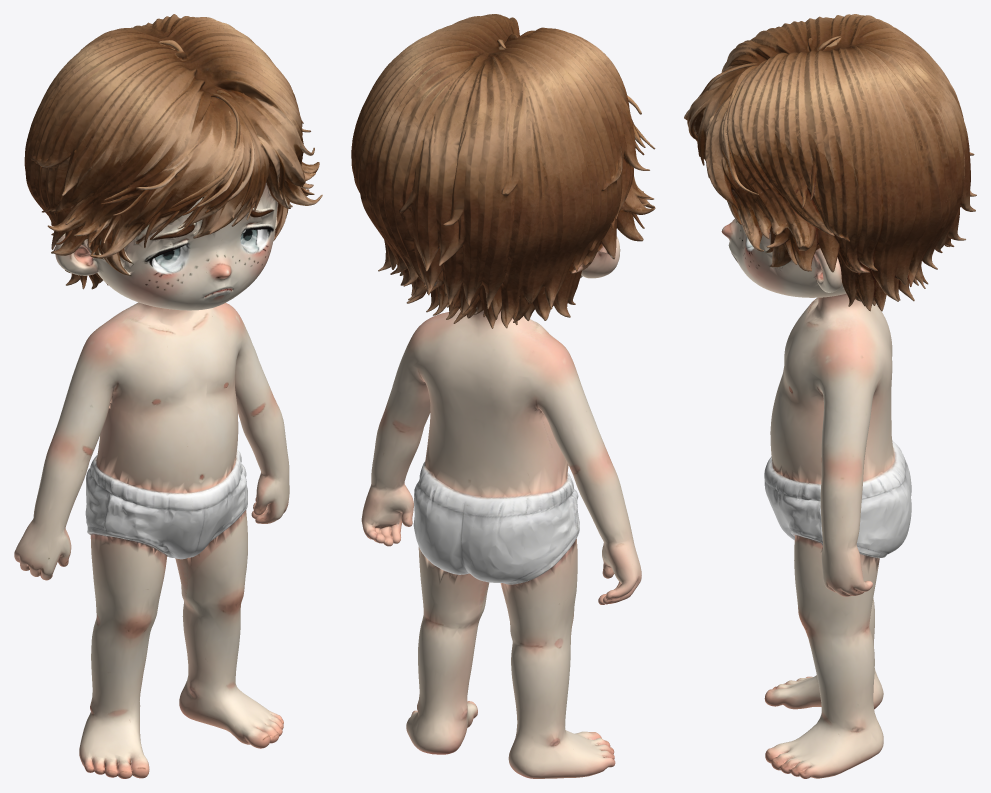
File: mike1.glb
3 renders of one model, left to right at view 1: azimuth 30°, elevation 25°; view 2: azimuth 150°, elevation 25°; view 3: azimuth 270°, elevation 25°, orthographic. The views are drawn at different scales.
Bounding box in the file's own units: 0.7836 × 1.9 × 0.7179.
1 material, 1 textured.
